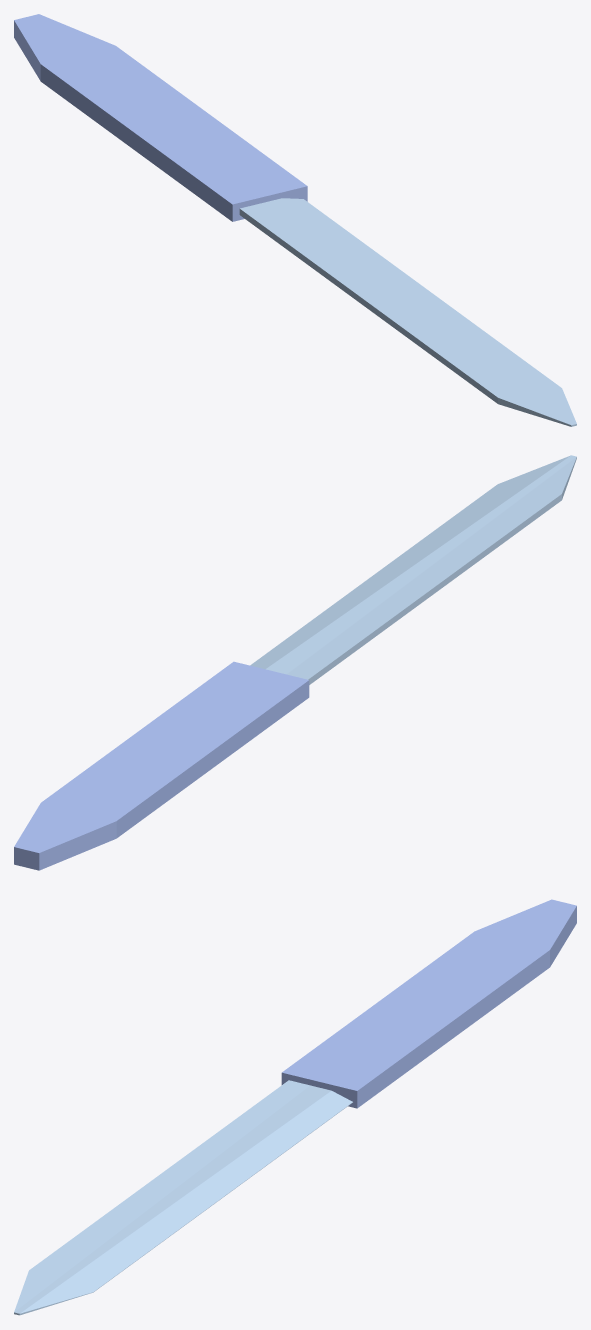
Rendered from KnifeV1.fbx.
3 views of the same model, one above another, from view 1: azimuth 30°, elevation 25°; view 2: azimuth 150°, elevation 25°; view 3: azimuth 330°, elevation 25° (orthographic).
Visible parts, largest first — view 1: Cube.002; view 2: Cube.002; view 3: Cube.002.
Part boxes in pixels (x1=…): Cube.002: x1=14, y1=14, x2=576, y2=426; Cube.002: x1=14, y1=455, x2=576, y2=870; Cube.002: x1=14, y1=899, x2=576, y2=1315.
Bounding box in the file's own units: 256 × 20.38 × 4.52.
